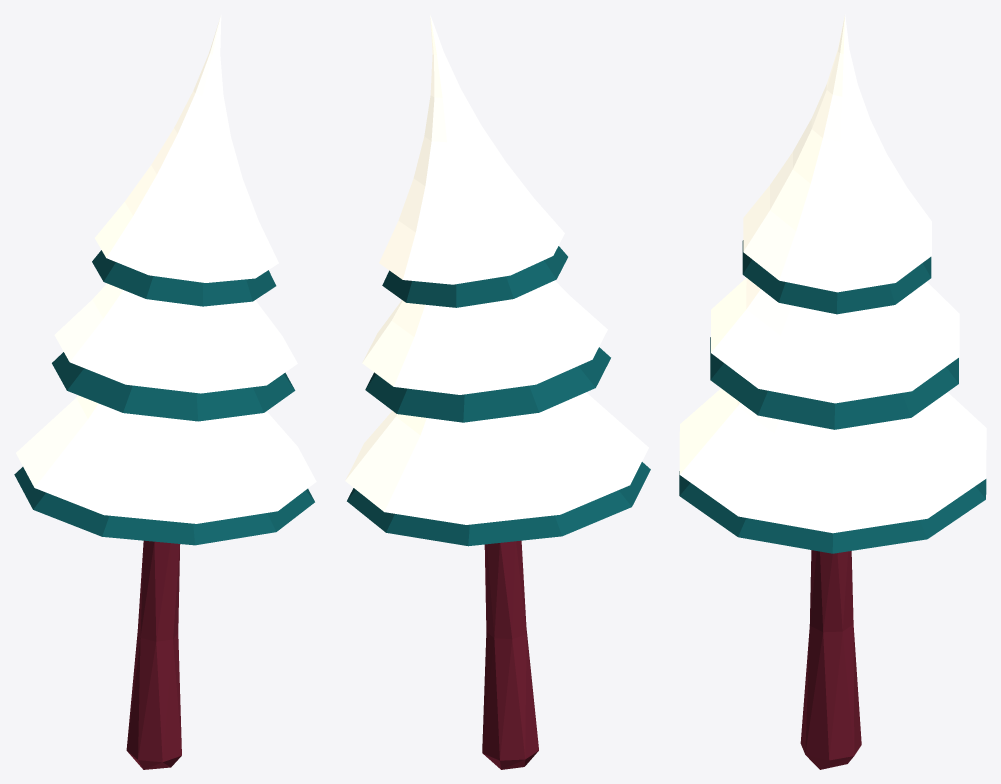
Rendered from TreeAsset1.fbx.
The picture shows the model from 3 angles, left to right: view 1: azimuth 30°, elevation 25°; view 2: azimuth 150°, elevation 25°; view 3: azimuth 270°, elevation 25°; orthographic projection. The views are drawn at different scales.
Visible parts, largest first — view 1: Tree1; view 2: Tree1; view 3: Tree1.
Part boxes in pixels (x1,y1,x2,y2): Tree1: (14,15,316,769); Tree1: (345,15,650,769); Tree1: (679,14,986,769).
Bounding box in the file's own units: 687 × 1807 × 638.
